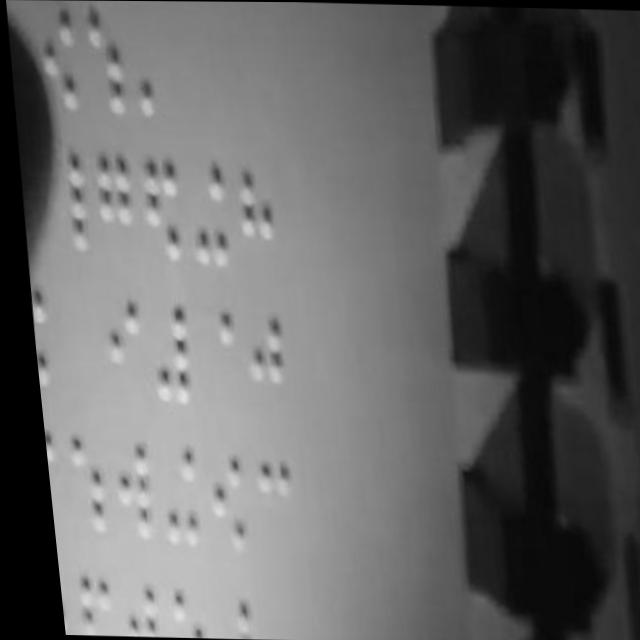braiile: (74, 5, 131, 117), (138, 297, 191, 408), (35, 141, 88, 252), (180, 160, 233, 268), (131, 150, 181, 264), (189, 448, 242, 553), (90, 295, 139, 407), (85, 147, 134, 256), (142, 444, 194, 545), (184, 302, 234, 404), (230, 169, 279, 272), (53, 428, 98, 539), (97, 437, 145, 541), (234, 310, 282, 413), (243, 448, 288, 548), (35, 426, 53, 530)
